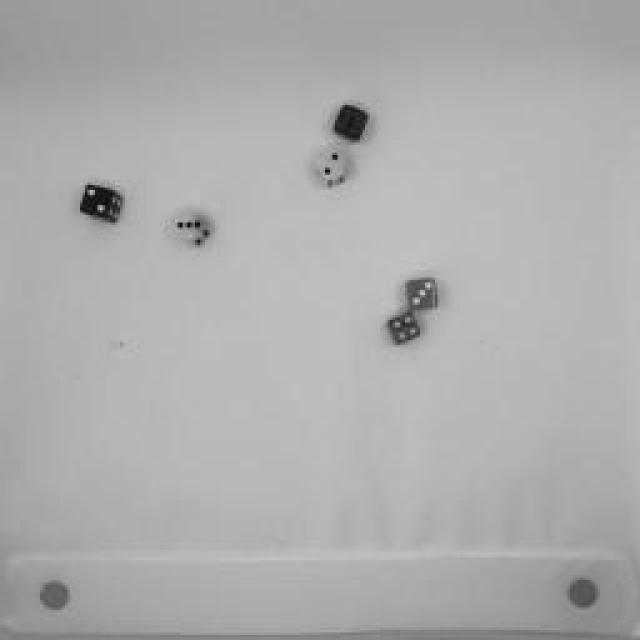dice_2: (82, 184, 126, 226), (314, 148, 351, 188)
dice_3: (170, 209, 215, 249), (402, 276, 442, 316)
dice_4: (384, 311, 424, 349)
dice_6: (331, 104, 369, 144)
